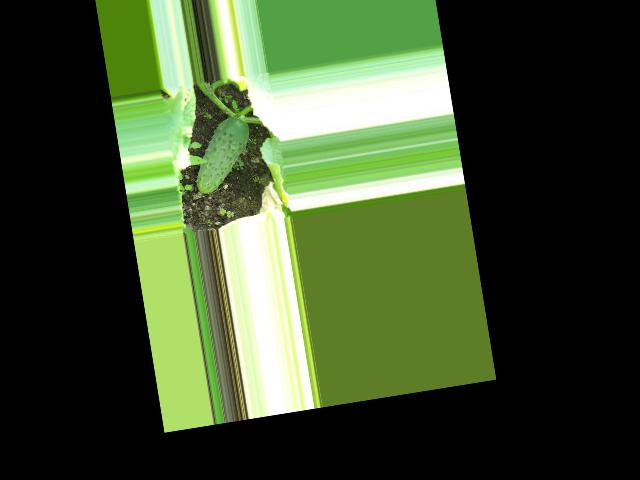cucumber: (186, 113, 258, 194)
